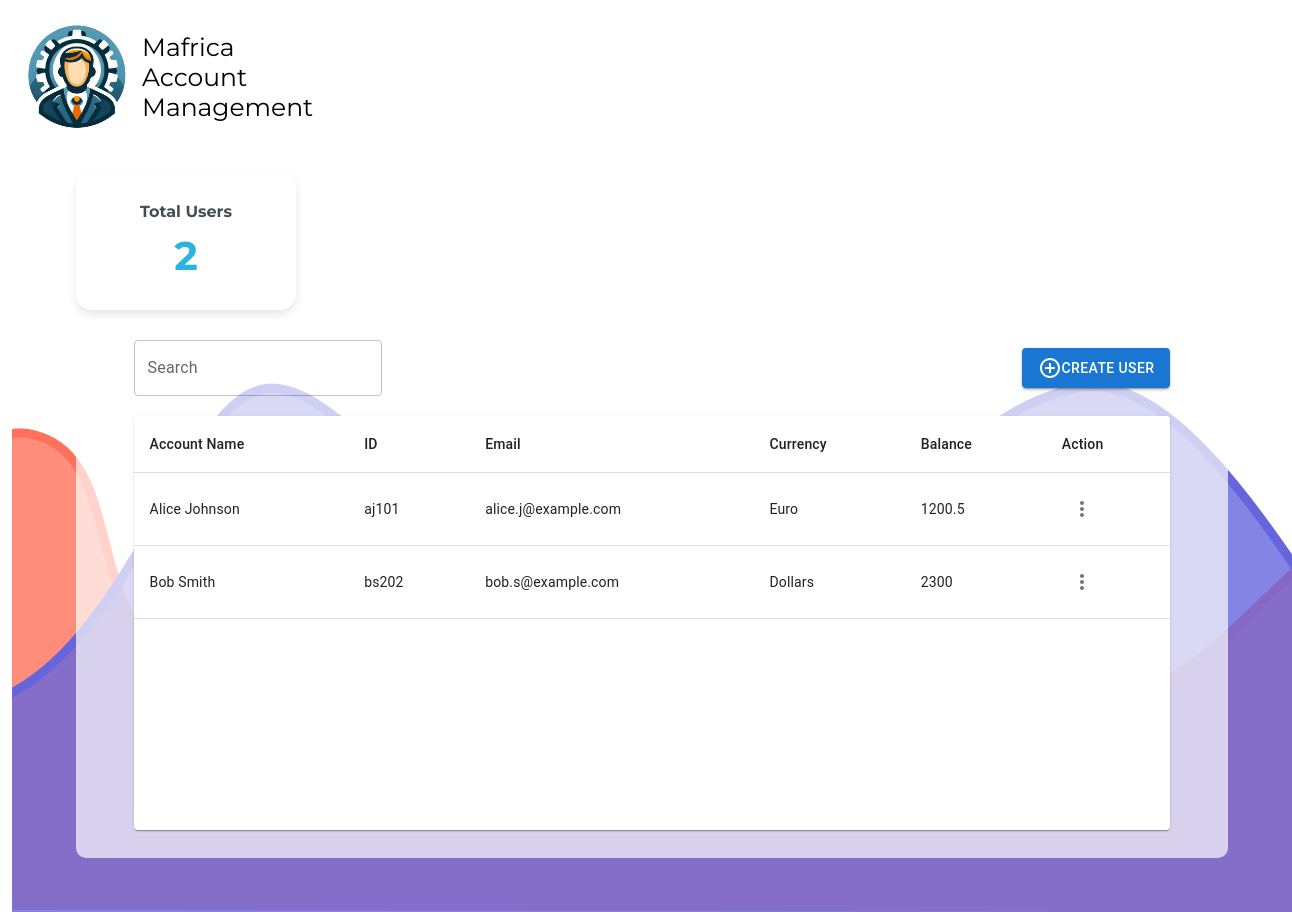
Scenario: <App /> › should delete an existing user
Check: the text "Alice Johnson" is shown, box left=134, top=473, right=348, bottom=546
Click the button without text in the row of "Alice Johnson": (1082, 509) left=1062, top=489, right=1102, bottom=529
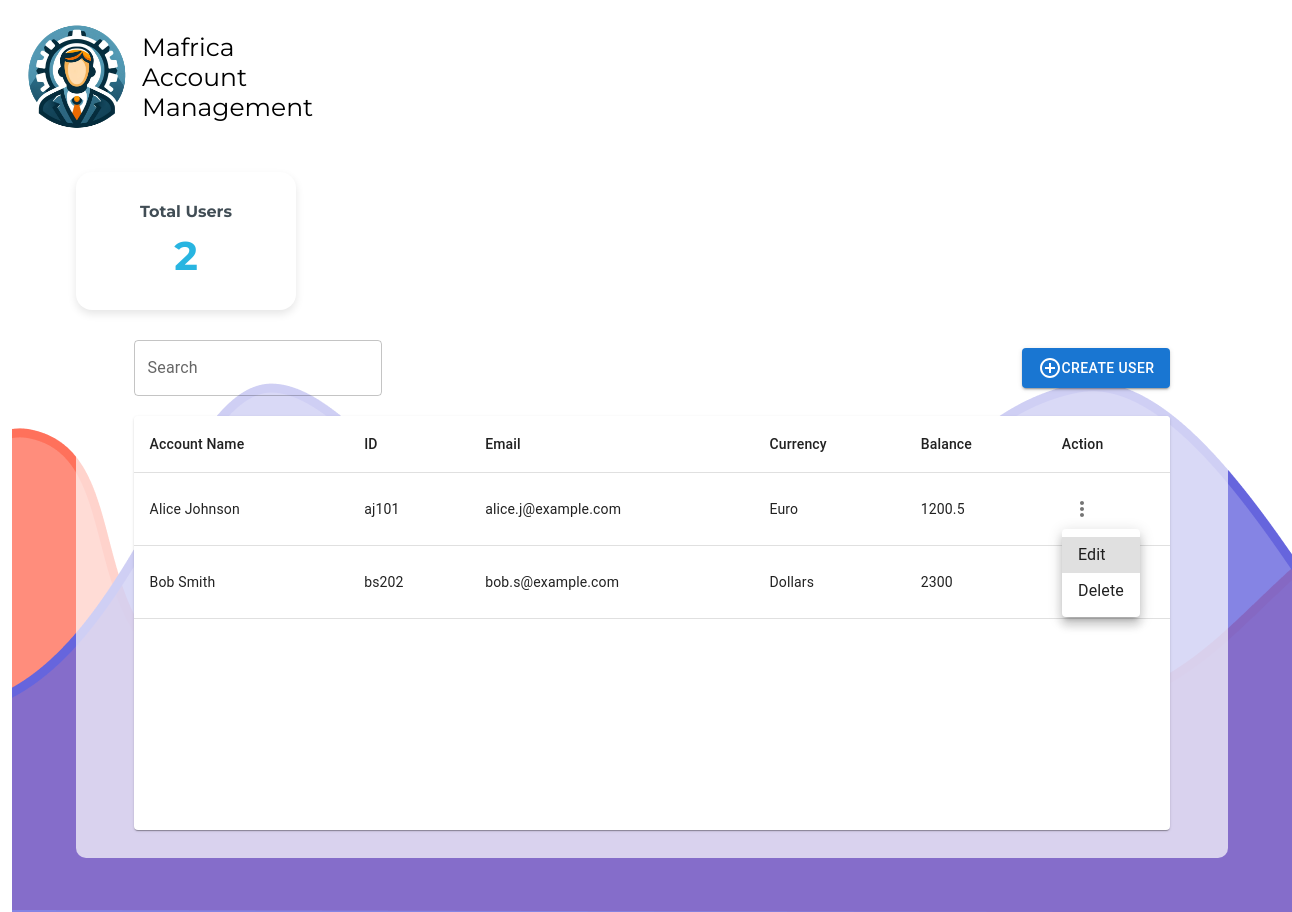
Check: the element with test id "ActionMenuModal" is shown, box left=1062, top=529, right=1140, bottom=617
Click the menu item with test id "ActionMenuModalDeleteButton": (1101, 590) left=1078, top=581, right=1124, bottom=600
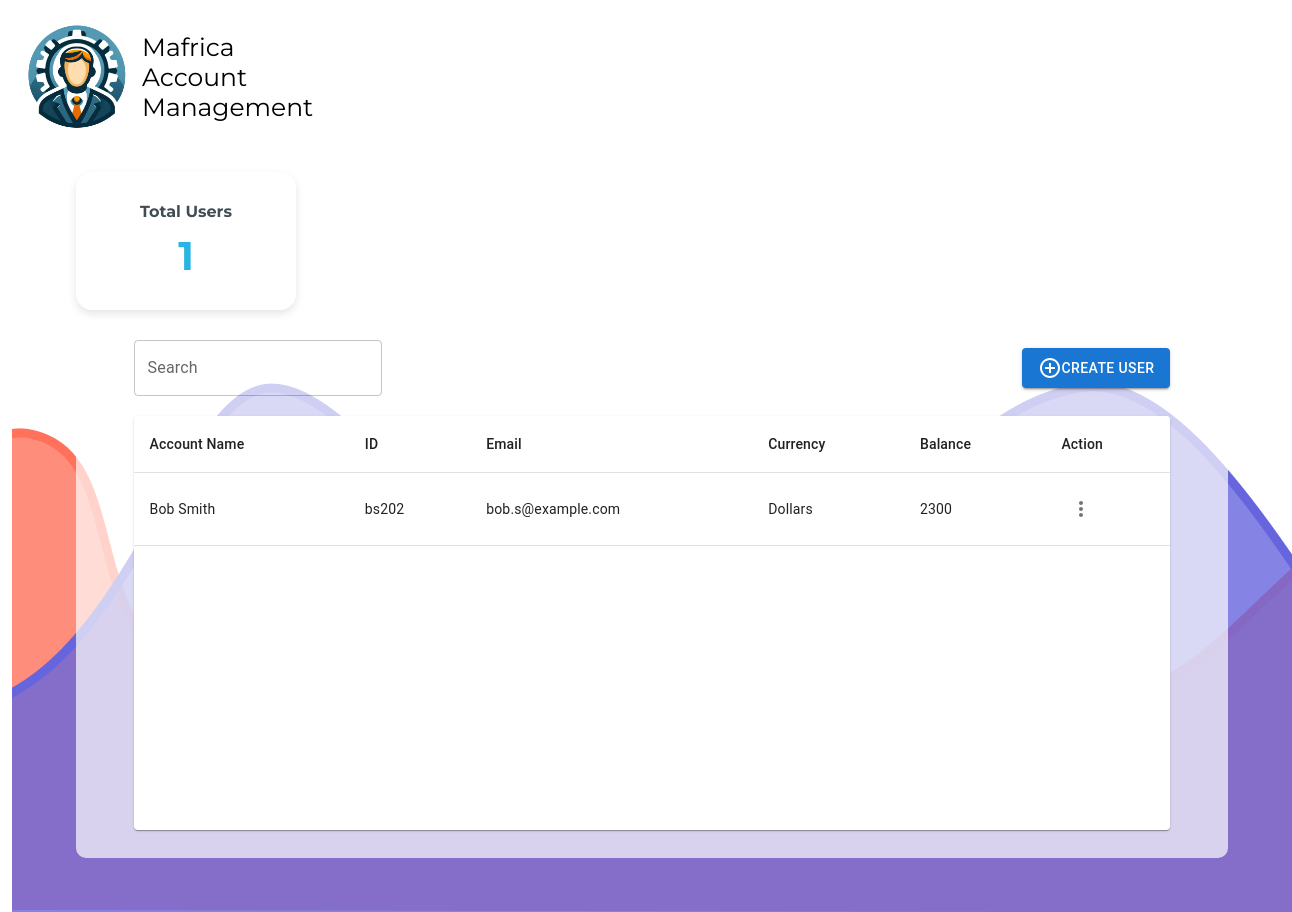
Check: the text "Alice Johnson" is gone
